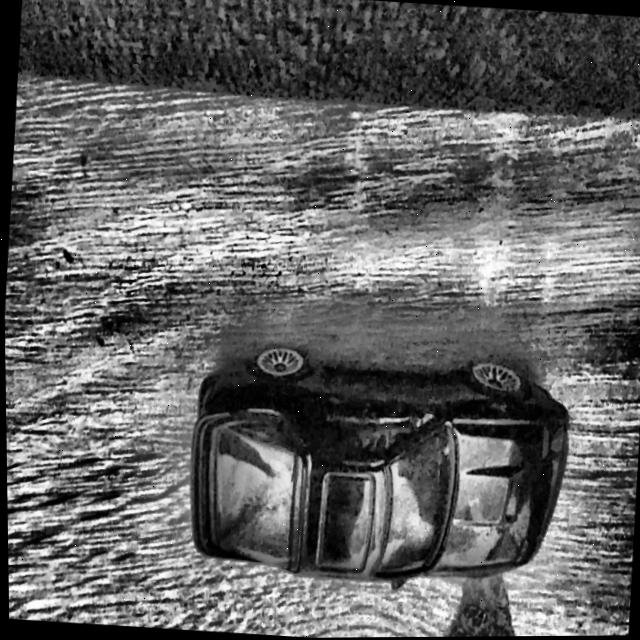car: (179, 332, 575, 600)
